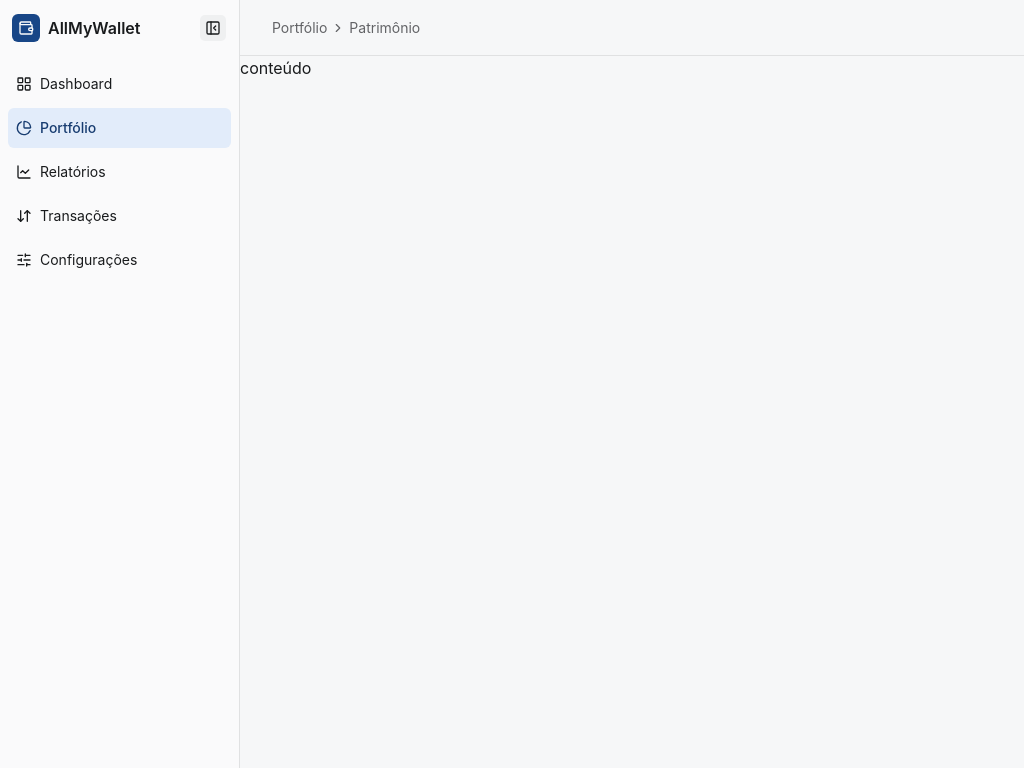
it: AppShell › collapses and expands the sidebar, reporting the state
The image size is (1024, 768).
Step 1. Click the button named "Recolher menu lateral" → click(213, 28), box x1=199 y1=14 x2=227 y2=42
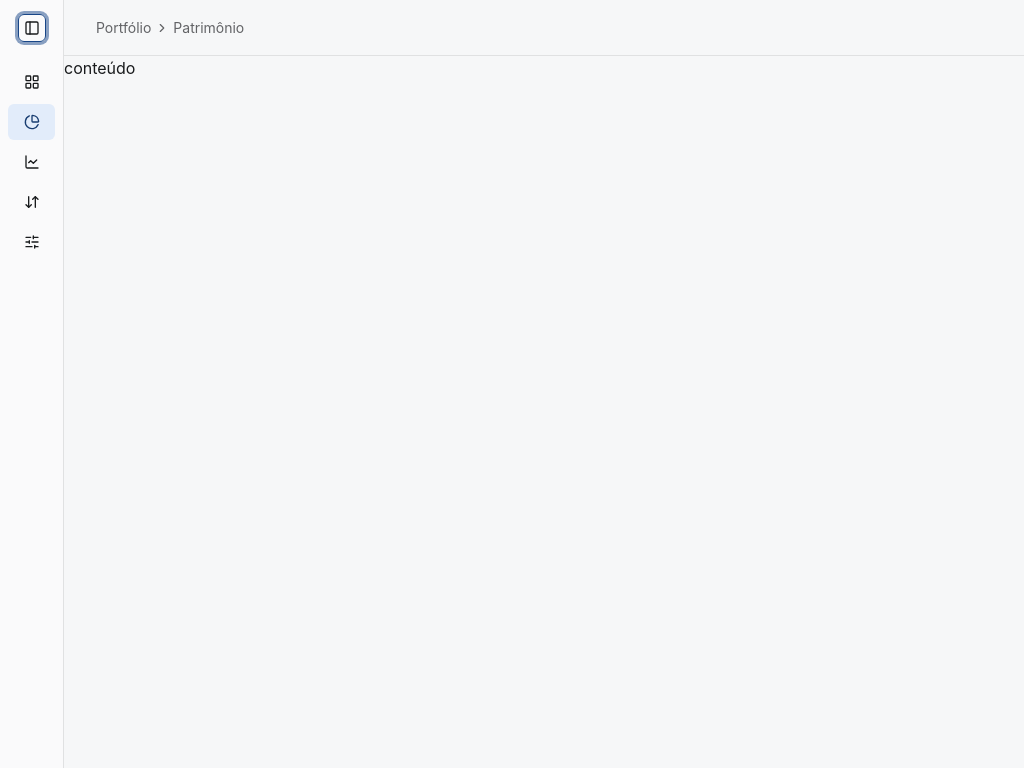
Check: the button named "Expandir menu lateral" is collapsed, box x1=18 y1=14 x2=46 y2=42
